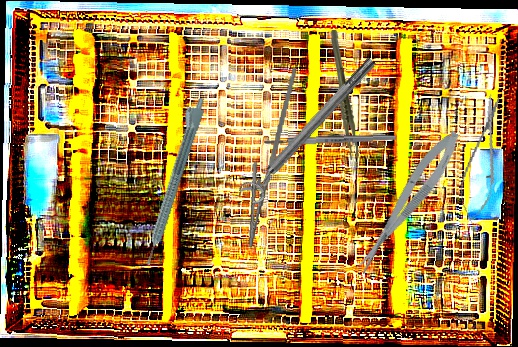Fixation Ring: (235, 51, 385, 208)
Handpiece: (135, 94, 208, 267)
Micro Scissor: (345, 125, 469, 278), (454, 90, 511, 226)
Needle Holder: (233, 63, 298, 251)
Scalpel Handle: (263, 133, 397, 147)
Tissue Forceps: (327, 30, 362, 160)
